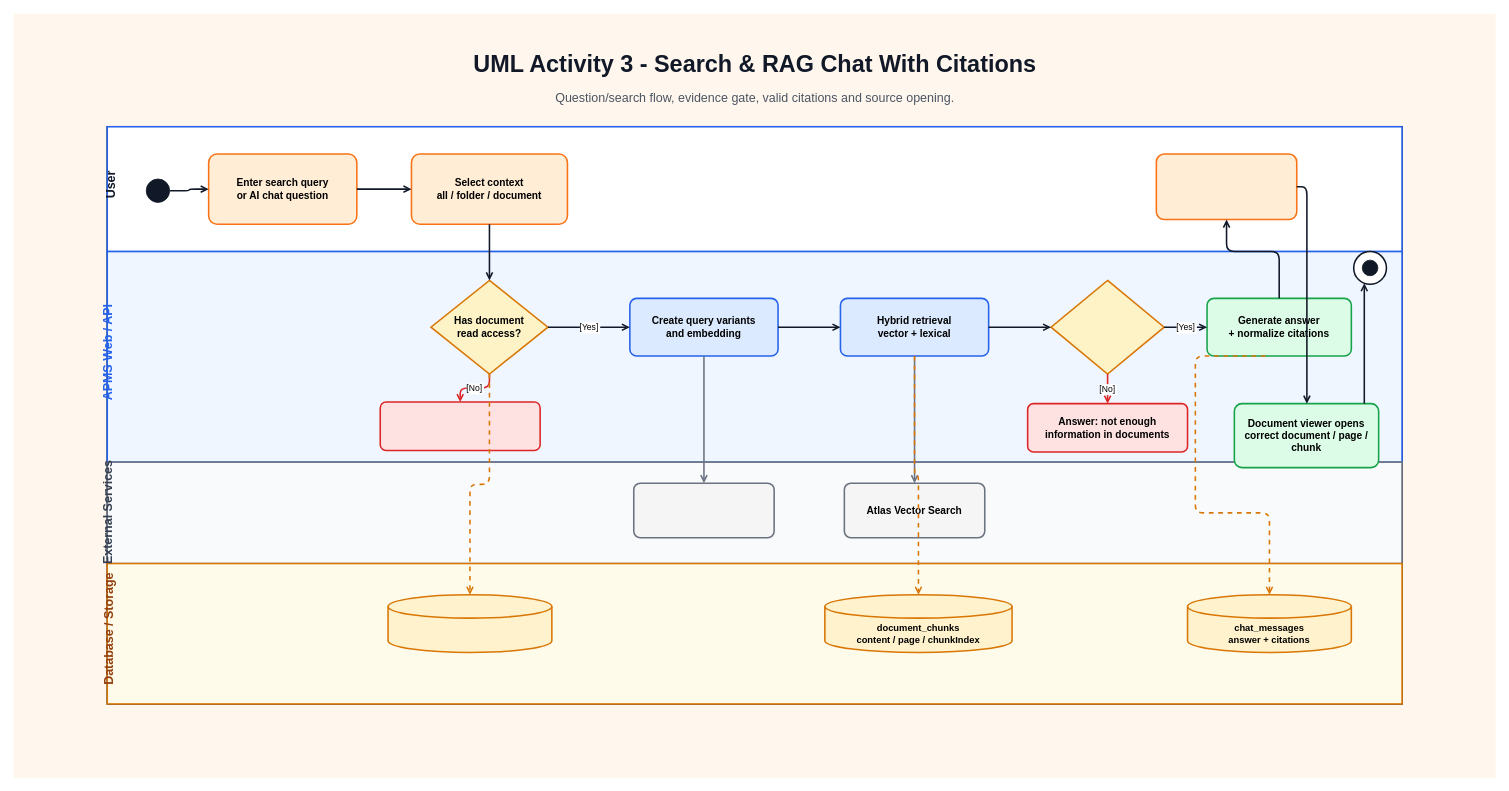
Image size: 1509x791. Some labels were removed from this diagram. Each missing label, with the box of its shape:
Click citation [1] [2]: (1155, 153, 1297, 220)
Deny / not found by access rules: (379, 401, 541, 451)
documents visibility share / owner: (387, 594, 552, 653)
Enough reliable evidence?: (1050, 279, 1165, 374)
Gemini embedding + chat: (633, 482, 775, 538)
